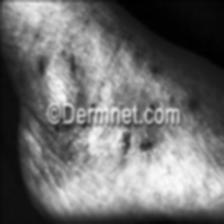Non-Cancerous Skin Condition: (116, 128, 133, 156), (138, 138, 154, 152), (151, 64, 160, 76)
